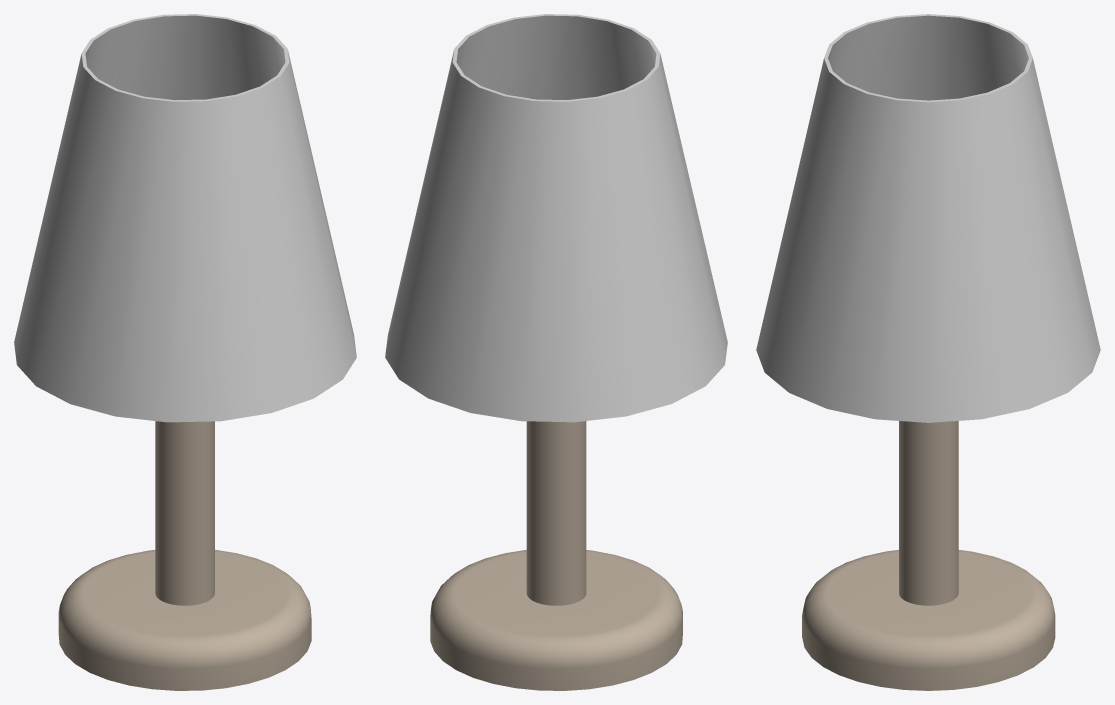
The model's file is LampeChevet3_6.fbx.
3 renders of one model, left to right at view 1: azimuth 30°, elevation 25°; view 2: azimuth 150°, elevation 25°; view 3: azimuth 270°, elevation 25°, orthographic.
Visible parts, largest first — view 1: pPipe110, pCylinder764; view 2: pPipe110, pCylinder764; view 3: pPipe110, pCylinder764.
Boxes of the visible parts, x1=… form: pPipe110: x1=14, y1=14, x2=356, y2=422; pCylinder764: x1=58, y1=421, x2=311, y2=690; pPipe110: x1=385, y1=14, x2=727, y2=422; pCylinder764: x1=430, y1=421, x2=682, y2=690; pPipe110: x1=756, y1=14, x2=1100, y2=422; pCylinder764: x1=802, y1=421, x2=1055, y2=690.
Size of the model in its own units: 13.33 by 24.73 by 13.33.
